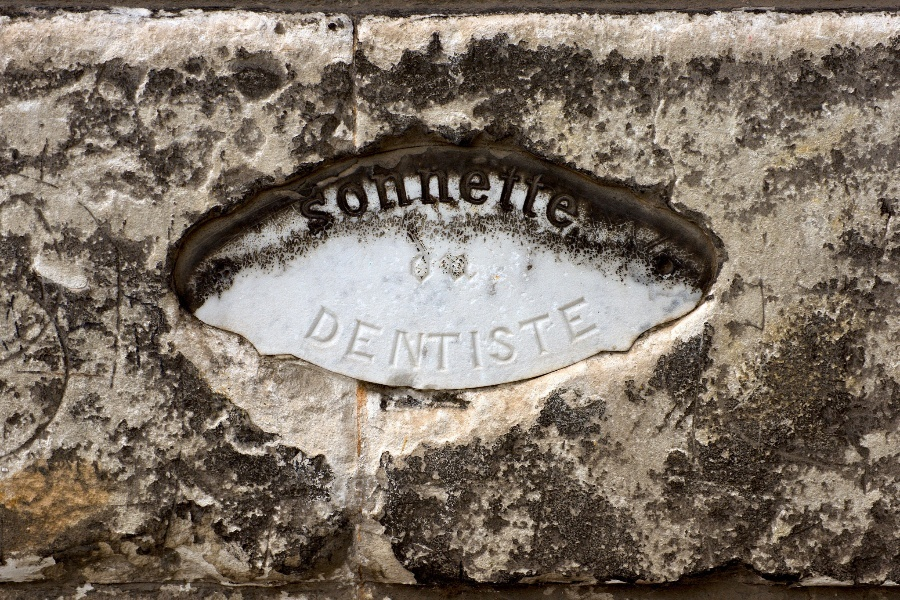text: (321, 296, 336, 375), (337, 296, 352, 375), (353, 296, 368, 375), (369, 296, 384, 375), (385, 296, 400, 375), (401, 296, 416, 375), (417, 296, 432, 375), (433, 296, 448, 375), (449, 296, 464, 375), (465, 296, 480, 375), (481, 296, 496, 375), (497, 296, 512, 375), (513, 296, 528, 375), (529, 296, 544, 375), (545, 296, 560, 375), (561, 296, 576, 375), (577, 296, 592, 375), (305, 164, 320, 234), (321, 164, 336, 234), (337, 164, 352, 234), (353, 164, 368, 234), (369, 164, 384, 234), (385, 164, 400, 234), (401, 164, 416, 234), (417, 164, 432, 234), (433, 164, 448, 234), (449, 164, 464, 234), (465, 164, 480, 234), (481, 164, 496, 234), (497, 164, 512, 234), (513, 164, 528, 234), (529, 164, 544, 234), (545, 164, 560, 234), (561, 164, 576, 234), (309, 296, 320, 375), (593, 296, 603, 375), (295, 164, 304, 234), (577, 164, 585, 234)
